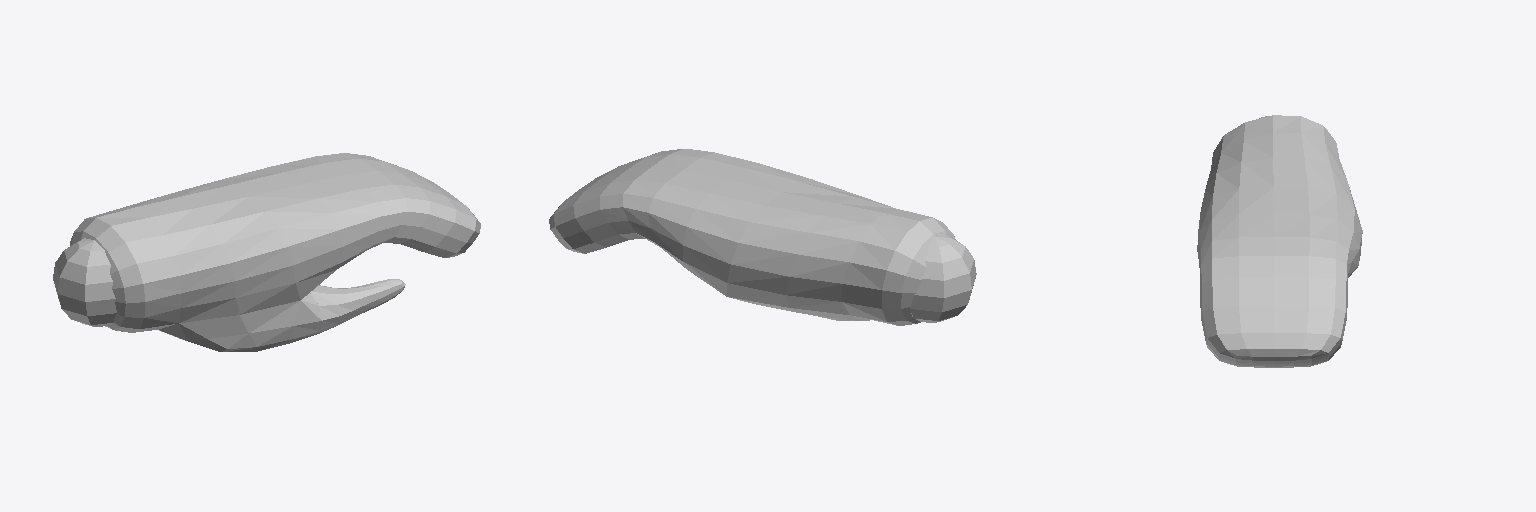
File: 08_hand_L.obj
3 views of the same model, side by side, from view 1: azimuth 30°, elevation 25°; view 2: azimuth 150°, elevation 25°; view 3: azimuth 270°, elevation 25° (orthographic).
Parts seen in each view (by area): view 1: hand_L; view 2: hand_L; view 3: hand_L.
Part boxes in pixels (left/top/right/bottom): hand_L: left=53, top=153, right=480, bottom=351; hand_L: left=549, top=149, right=976, bottom=325; hand_L: left=1197, top=115, right=1362, bottom=367.
Size of the model in its own units: 1.2 by 0.3923 by 0.429.